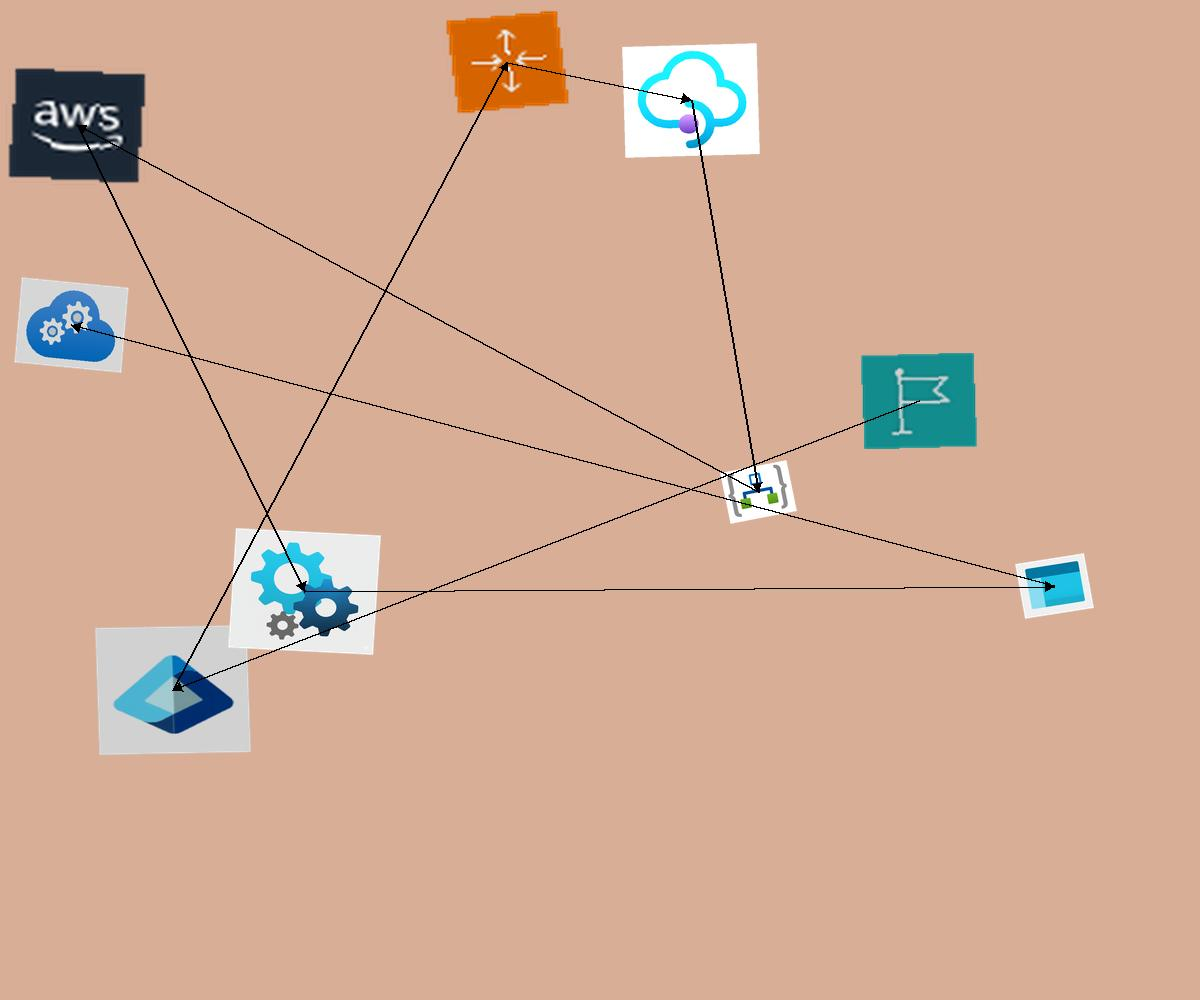AWS-Cloud-logo: (6, 66, 148, 185)
AWS-Region: (860, 352, 978, 450)
AWS-Scaling-group: (444, 9, 571, 115)
Azure_api: (228, 528, 381, 655)
Azure_api_gateway: (622, 43, 760, 158)
Azure_cloud_services: (14, 277, 129, 373)
Azure_integration-204-Logic-Apps: (720, 460, 797, 524)
Azure_management-portal: (1015, 553, 1094, 619)
Azure_microsoft_entra: (95, 625, 251, 755)
